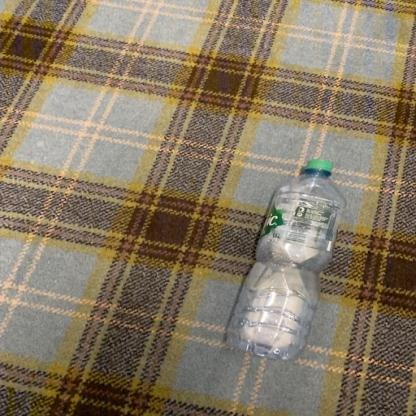trash: (220, 158, 350, 363)
